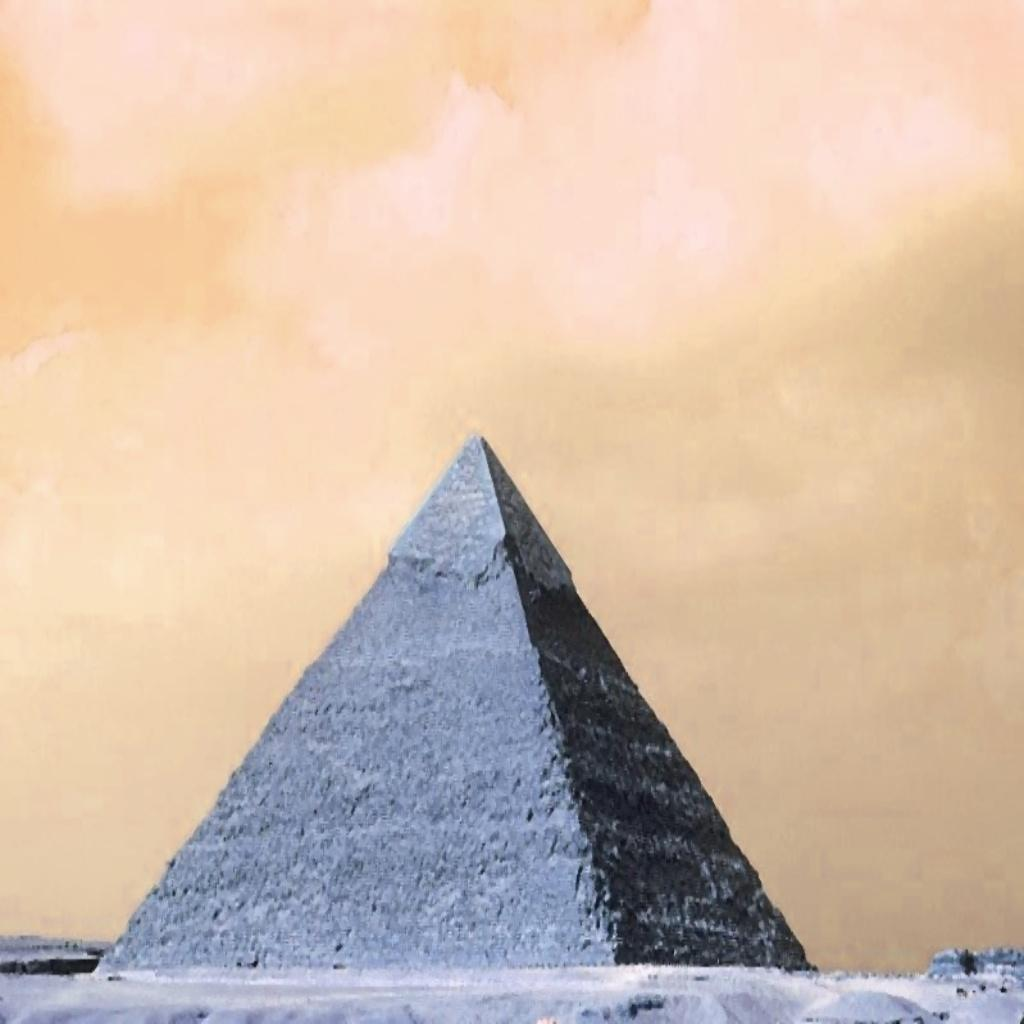Great Pyramids of Giza: (96, 428, 819, 974)
